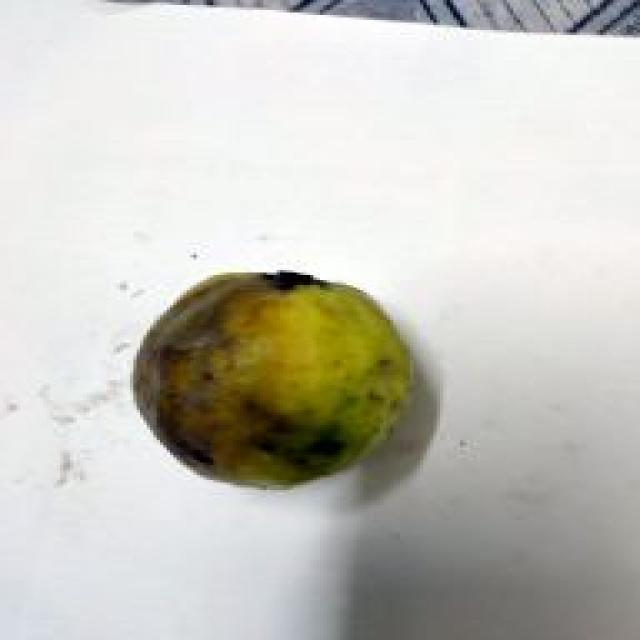Bad_Guava: (137, 271, 412, 487)
